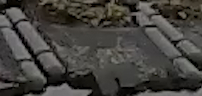bag: (15, 5, 197, 88)
